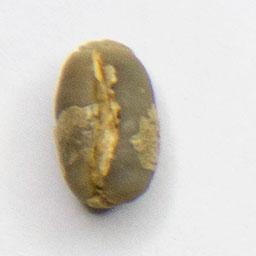peaberry: (52, 35, 162, 216)
